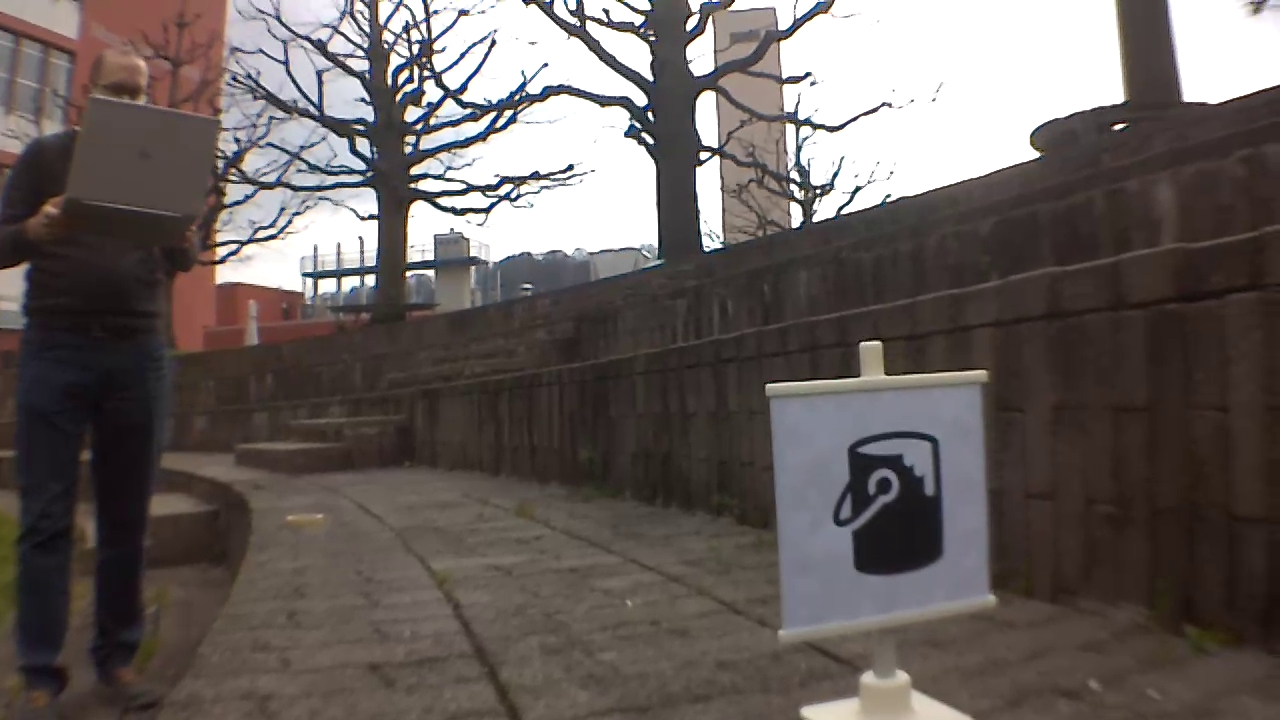bucket: (831, 423, 953, 585)
